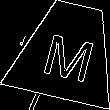M_N: (37, 21, 98, 81)
